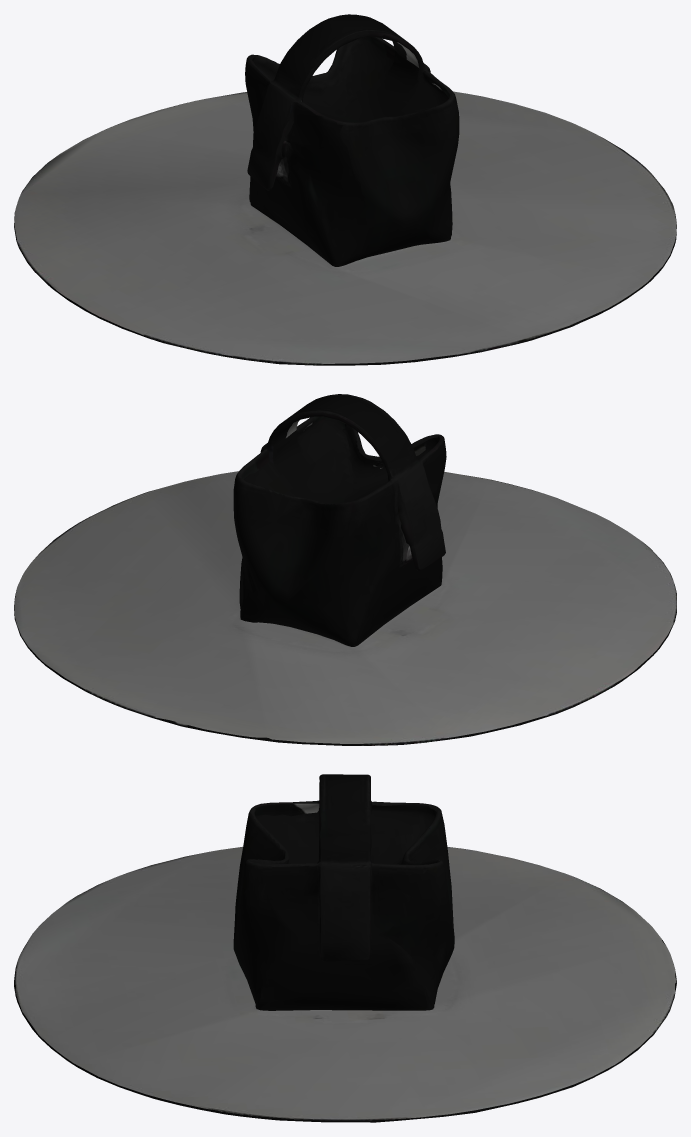
File: acessorios-basic.glb
3 views of the same model, one above another, from view 1: azimuth 30°, elevation 25°; view 2: azimuth 150°, elevation 25°; view 3: azimuth 270°, elevation 25° (orthographic).
Visible parts, largest first — view 1: textured_mesh; view 2: textured_mesh; view 3: textured_mesh.
Part boxes in pixels (x1=…): textured_mesh: x1=14, y1=14, x2=676, y2=365; textured_mesh: x1=14, y1=394, x2=676, y2=745; textured_mesh: x1=14, y1=774, x2=676, y2=1122.
Bounding box in the file's own units: 1.99 × 0.6771 × 1.99.
1 material, 1 textured.
